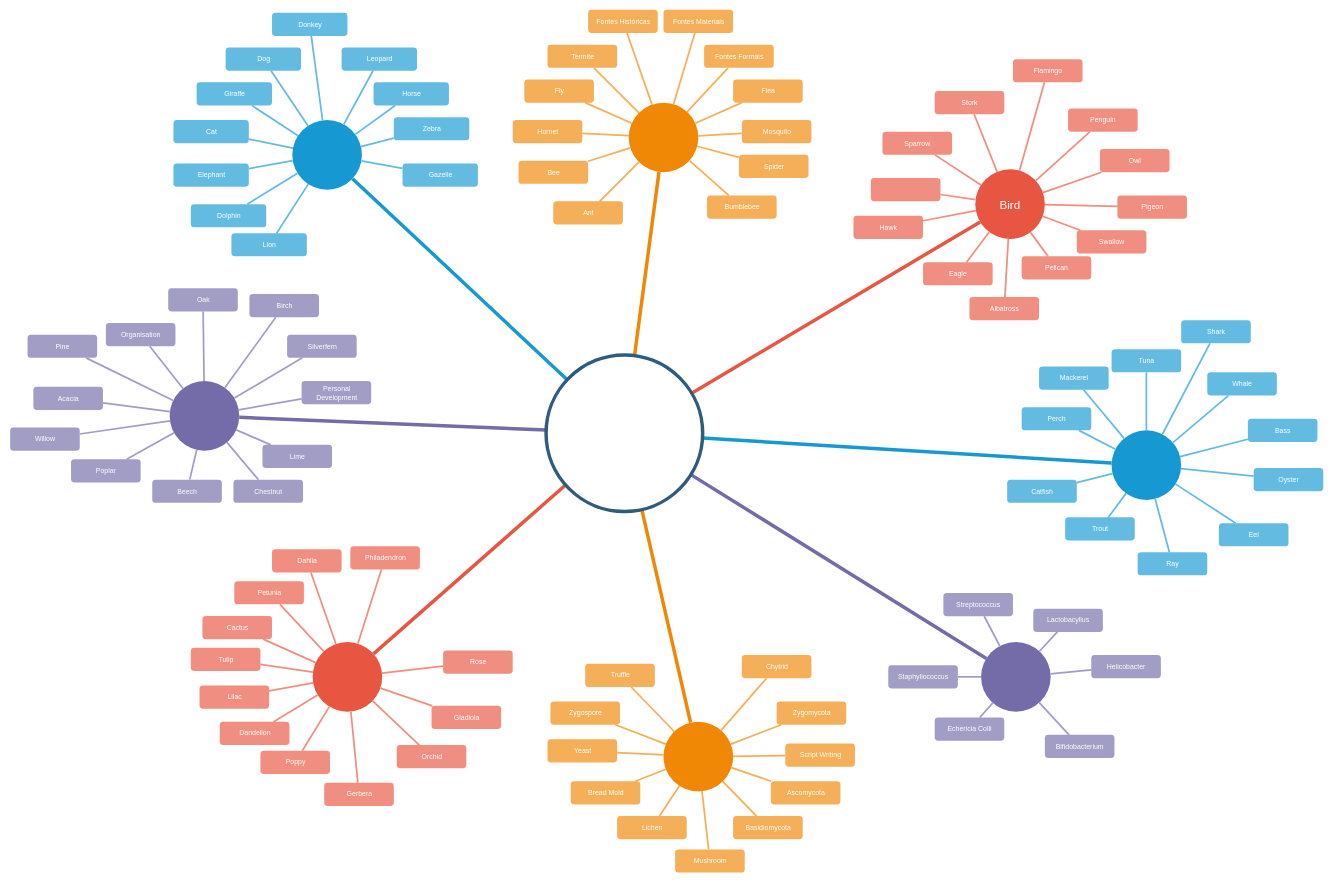
Image size: 1333x883. Some labels were removed from this diagram. Each missing label, with the box of its shape:
Bacteria: (981, 642, 1050, 711)
Constituição de 1988: (544, 353, 704, 513)
Falcon: (871, 178, 940, 201)
Fish: (1111, 430, 1181, 500)
Flower: (312, 642, 382, 711)
Fontes de Direito: (628, 102, 698, 172)
Fungi: (663, 722, 733, 791)
Principios: (292, 120, 362, 189)
Tree: (169, 381, 239, 450)
